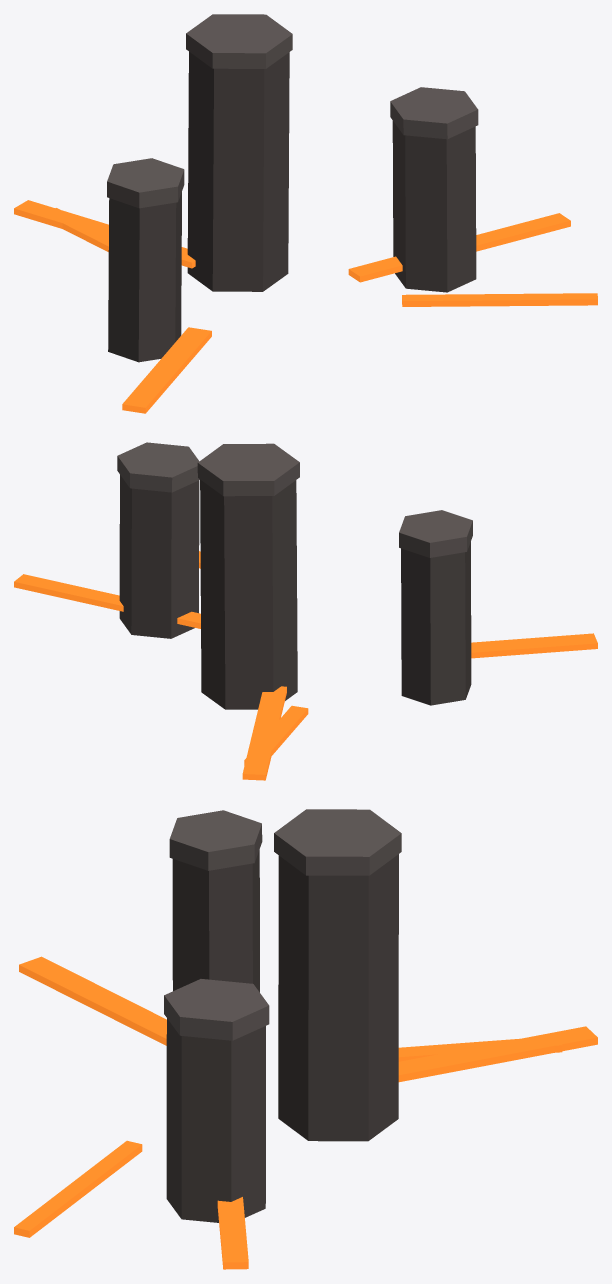
The model's file is runtime.glb.
3 renders of one model, top to bottom at view 1: azimuth 30°, elevation 25°; view 2: azimuth 150°, elevation 25°; view 3: azimuth 270°, elevation 25°, orthographic. The views are drawn at different scales.
Parts seen in each view (by area): view 1: magma_outcrop_basalt_nocol, magma_outcrop_cap_noshadow_nocol, magma_outcrop_lava_noshadow_nocol; view 2: magma_outcrop_basalt_nocol, magma_outcrop_cap_noshadow_nocol, magma_outcrop_lava_noshadow_nocol; view 3: magma_outcrop_basalt_nocol, magma_outcrop_cap_noshadow_nocol, magma_outcrop_lava_noshadow_nocol.
Part boxes in pixels (left/top/right/bottom): magma_outcrop_basalt_nocol: left=108, top=51, right=476, bottom=362; magma_outcrop_cap_noshadow_nocol: left=107, top=14, right=478, bottom=208; magma_outcrop_lava_noshadow_nocol: left=14, top=200, right=597, bottom=413; magma_outcrop_basalt_nocol: left=119, top=475, right=471, bottom=709; magma_outcrop_cap_noshadow_nocol: left=117, top=442, right=472, bottom=557; magma_outcrop_lava_noshadow_nocol: left=14, top=551, right=597, bottom=780; magma_outcrop_basalt_nocol: left=166, top=850, right=398, bottom=1222; magma_outcrop_cap_noshadow_nocol: left=164, top=809, right=401, bottom=1040; magma_outcrop_lava_noshadow_nocol: left=14, top=956, right=597, bottom=1269.
Bounding box in the file's own units: 5.58 × 2.44 × 4.5.
